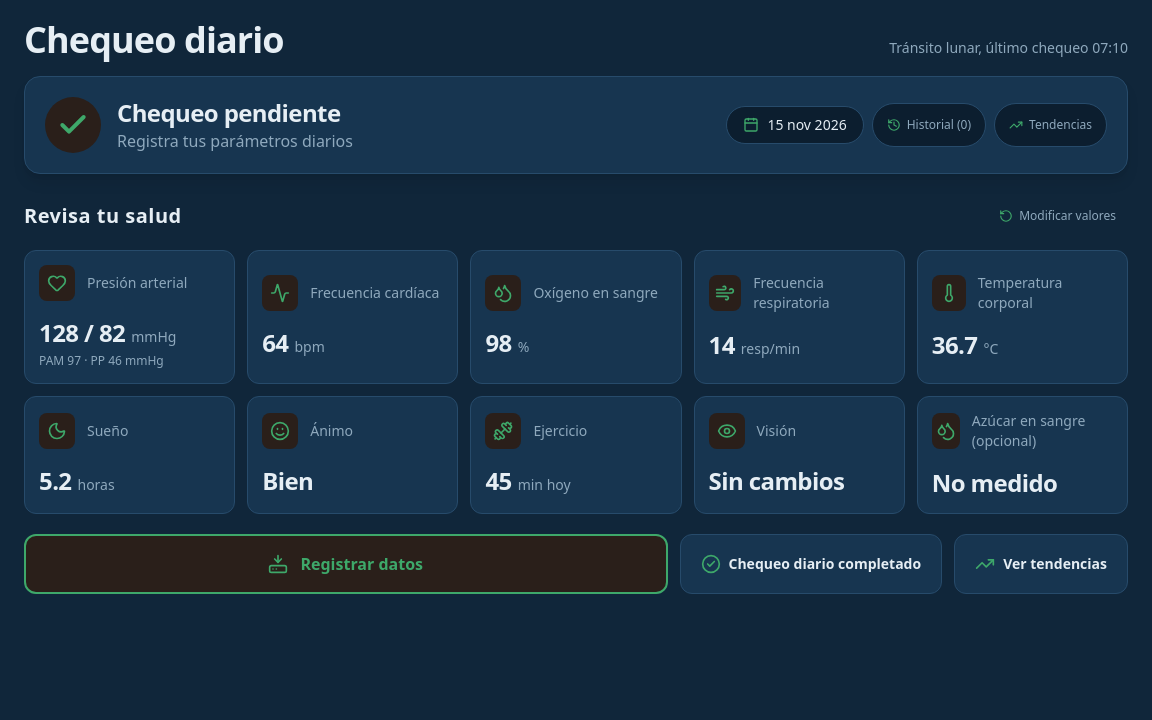
it: pantallas traducidas › Chequeo diario: el aviso al guardar sale en el idioma activo
Click the button "Registrar datos" at (346, 564), box [24,534,668,594]
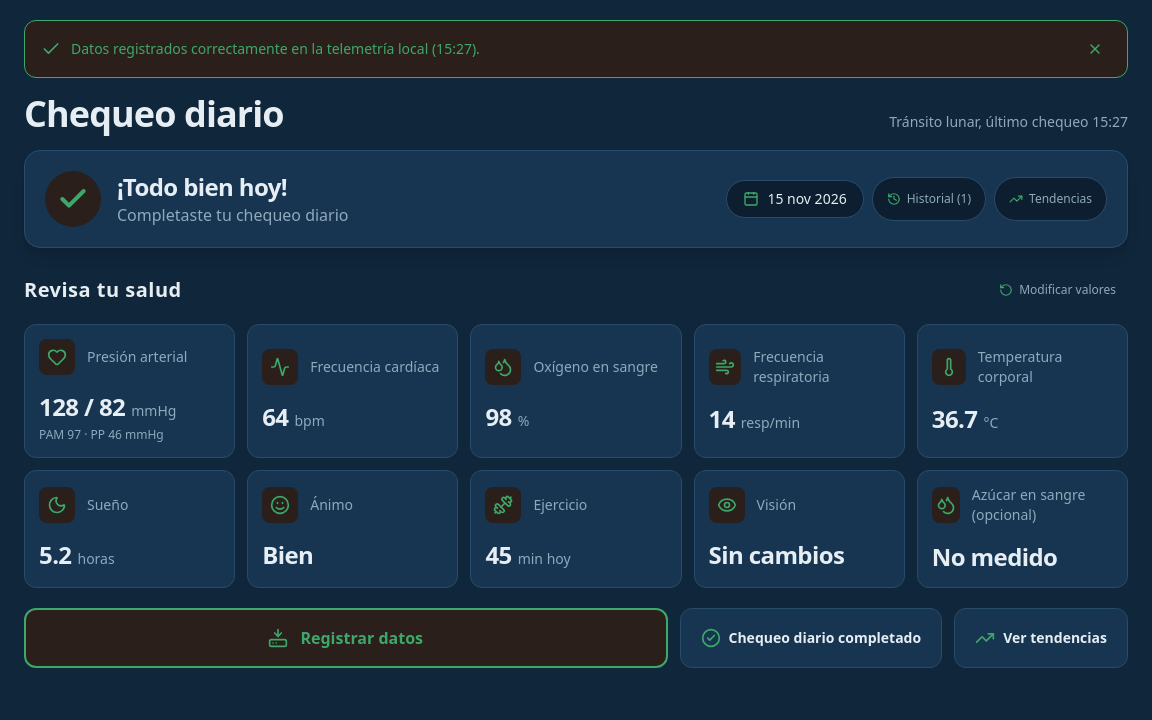
Expected: the message reads "Datos registrados correctamente en la telemetría local (15:27).", [71,39,480,58]
